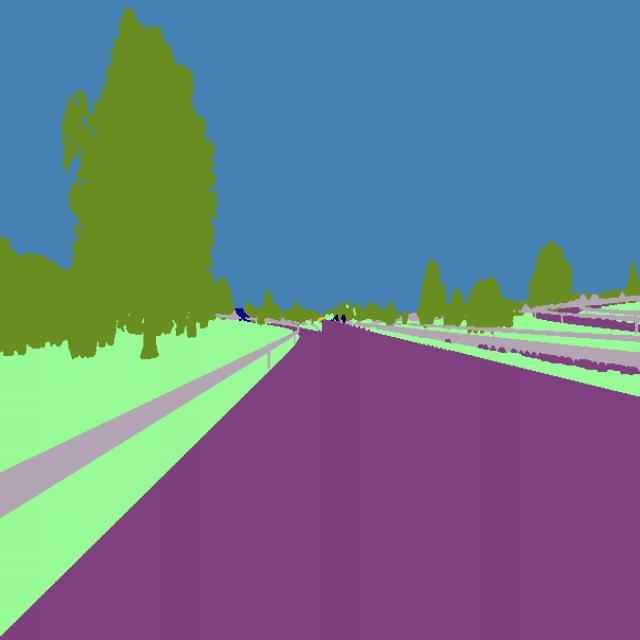safe: (232, 306, 256, 326)
